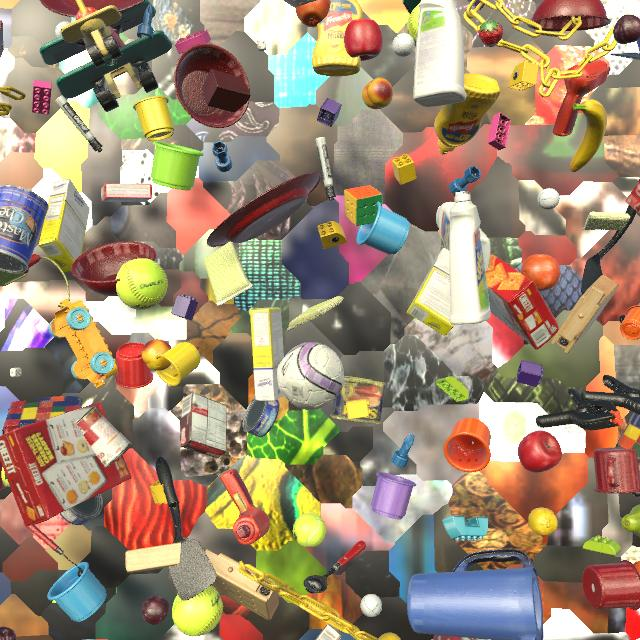ycb_002_master_chef_can: (0, 185, 49, 274), (636, 39, 640, 53)
ycb_003_cracker_box: (0, 401, 132, 526), (485, 253, 559, 350), (433, 635, 488, 640)
ycb_004_sugar_box: (38, 179, 90, 272), (407, 248, 454, 336), (250, 308, 284, 401)
ycb_005_tomato_soup_can: (75, 406, 131, 468)
ycb_006_mustard_bottle: (434, 73, 500, 155), (312, 0, 363, 76)
ycb_007_tuna_fish_can: (243, 396, 279, 437), (60, 493, 103, 525)
ycb_008_pudding_box: (180, 392, 227, 458), (315, 624, 343, 640)
ycb_009_gelatin_box: (101, 184, 153, 202), (625, 181, 640, 213)
ycb_010_potted_meat_can: (330, 376, 386, 425), (0, 268, 29, 287)
ycb_011_banana: (570, 99, 607, 172)
ycb_012_strawberry: (479, 20, 503, 47)
ycb_013_apple: (518, 431, 562, 473), (344, 19, 383, 61)
ycb_014_lemon: (528, 508, 558, 536), (378, 632, 401, 640)
ycb_015_peach: (141, 339, 172, 371), (362, 77, 393, 109)
ycb_016_pear: (622, 504, 640, 537)
ycb_017_orange: (520, 254, 561, 291), (295, 0, 330, 27)
ycb_018_plum: (142, 596, 170, 625), (613, 14, 640, 44), (0, 627, 16, 640)
